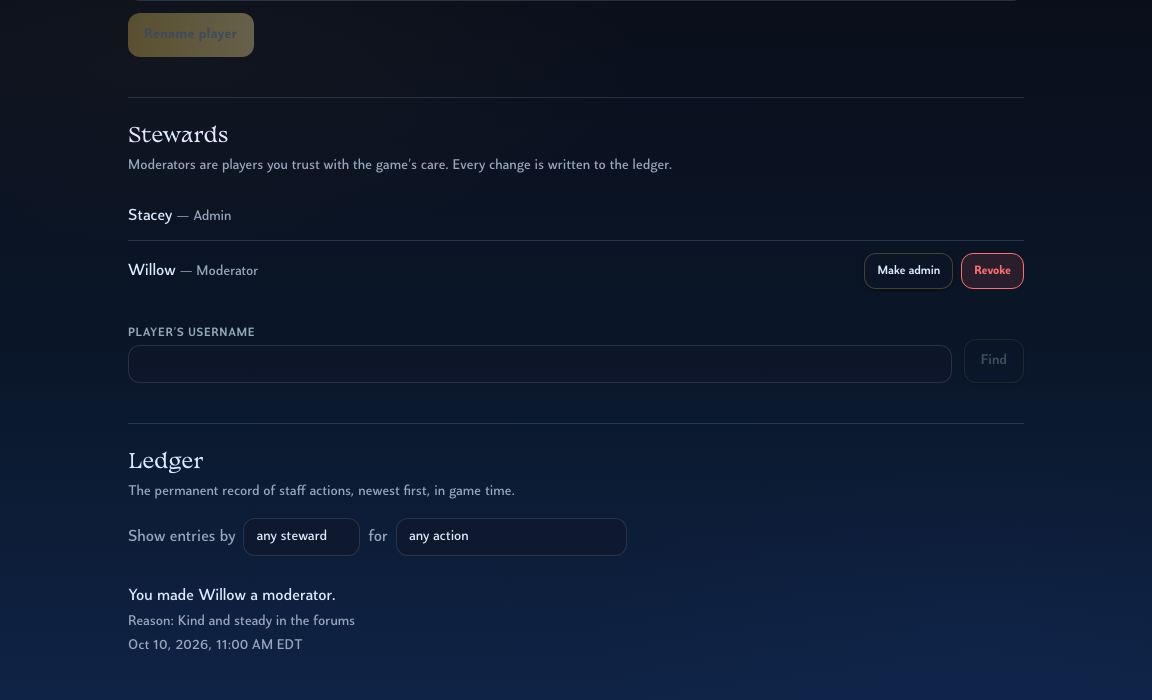
Scenario: The Steward's Office › finds a player by username and promotes them with a reason
(page scrolled)
Type "Juniper" into the field labelled "Player's username". click: coordinates (540, 364)
box: [128,345,952,383]
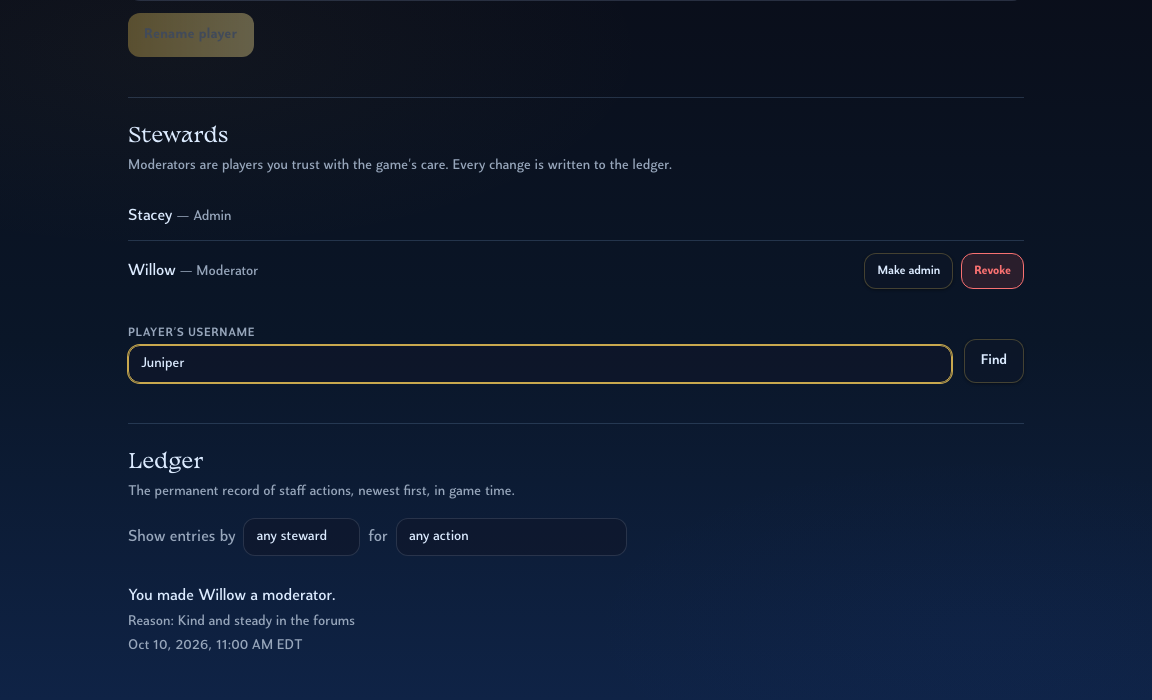
Click the button "Find". click: coordinates (994, 361)
box: [964,339,1024,383]
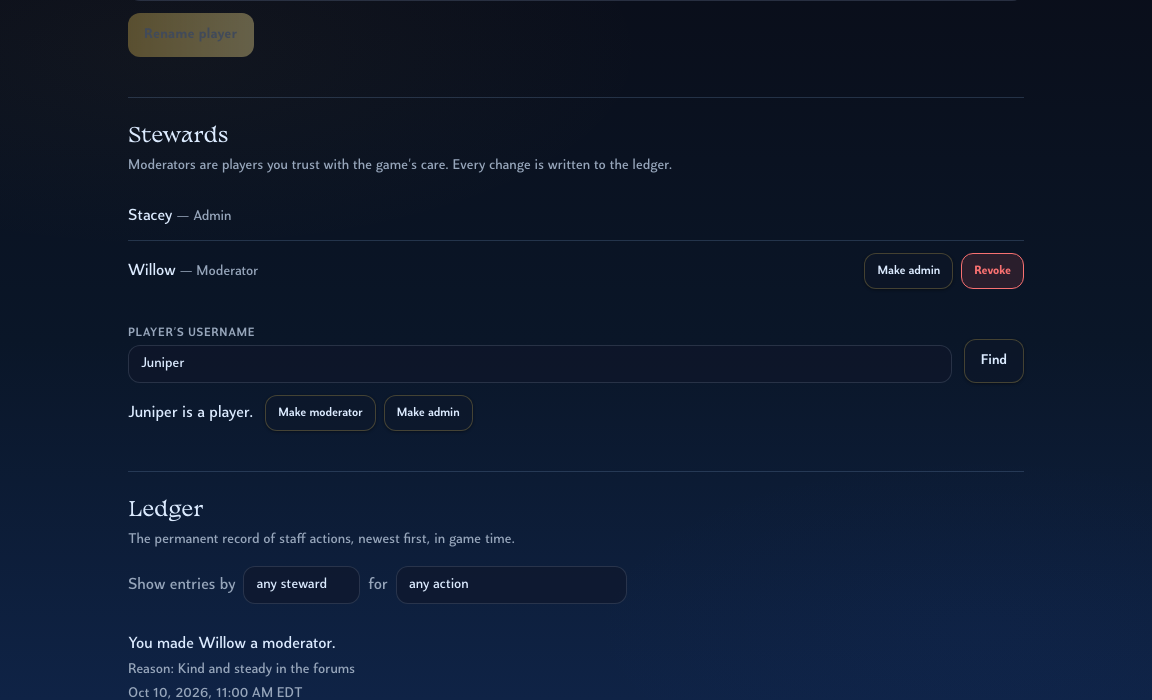
Click the button with aria-label "Make Juniper a moderator". click: coordinates (320, 413)
box: [265,395,376,431]
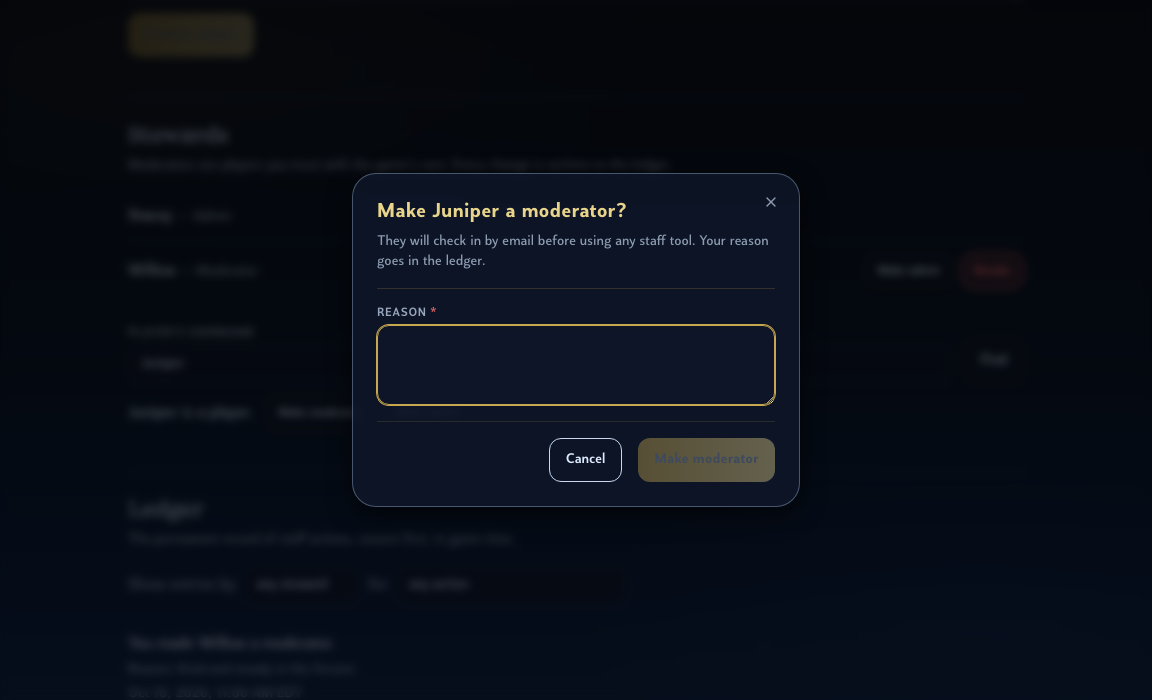
Type "Trusted helper" into the text box labelled "Reason *". click: coordinates (576, 365)
box: [377,325,775,405]
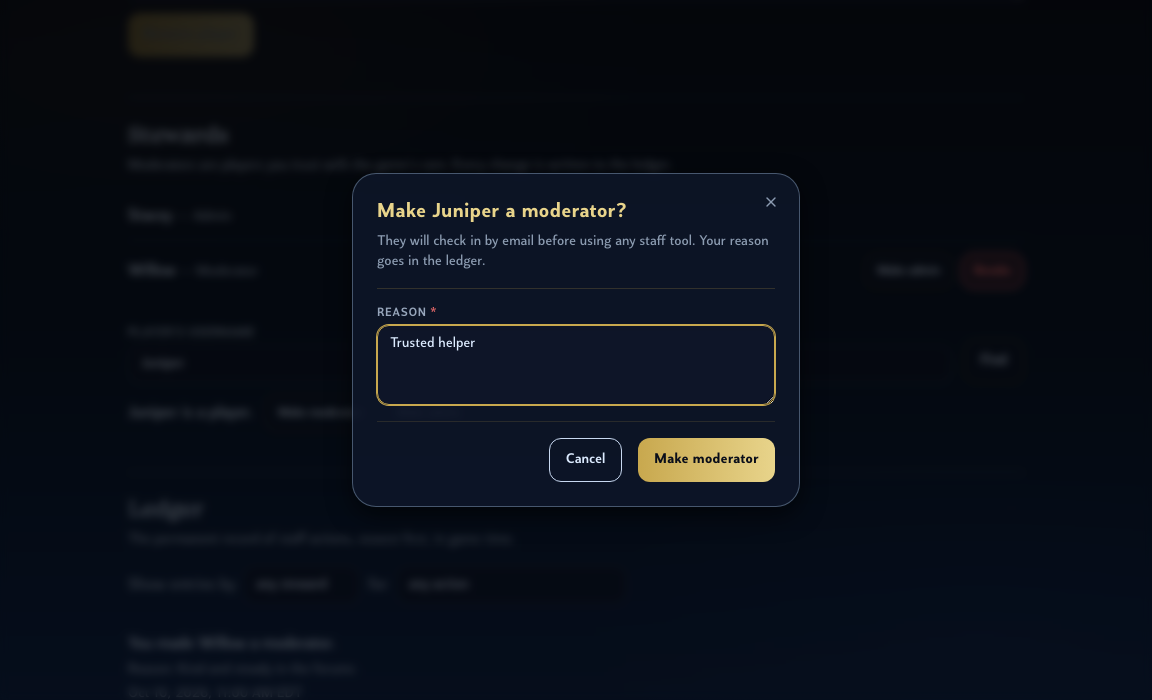
Click the button "Make moderator". click: coordinates (707, 460)
box: [638,438,775,482]
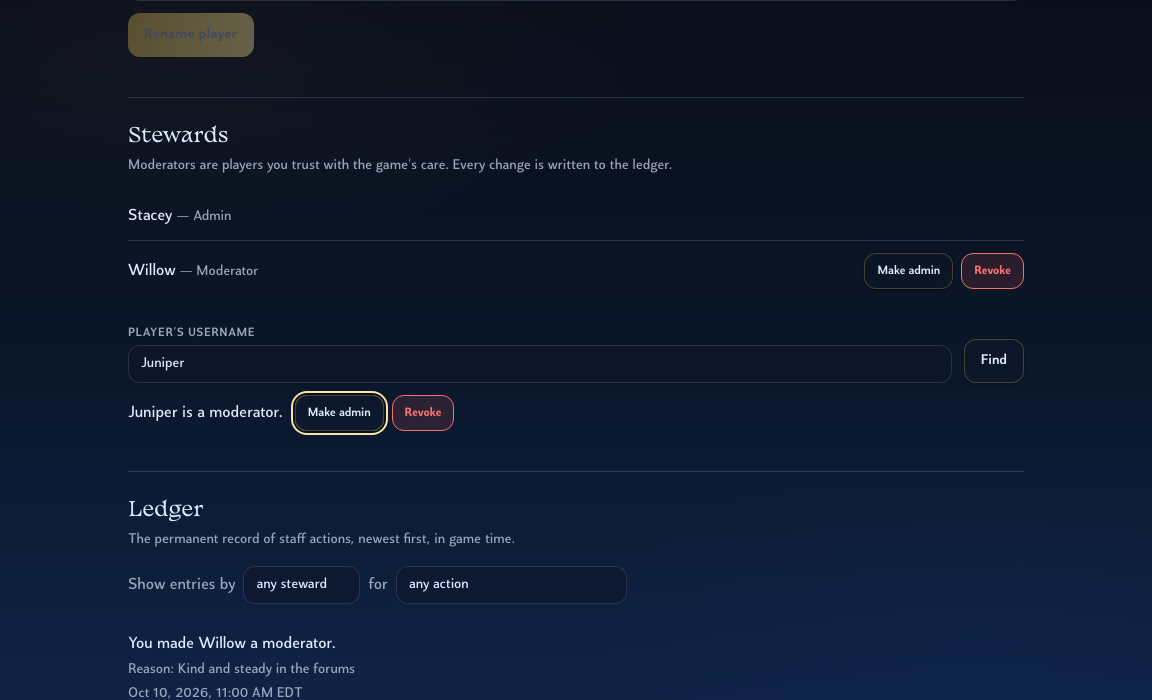
Result: the dialog is gone
Result: the text "Juniper is a moderator." is shown at [128,401,283,425]
